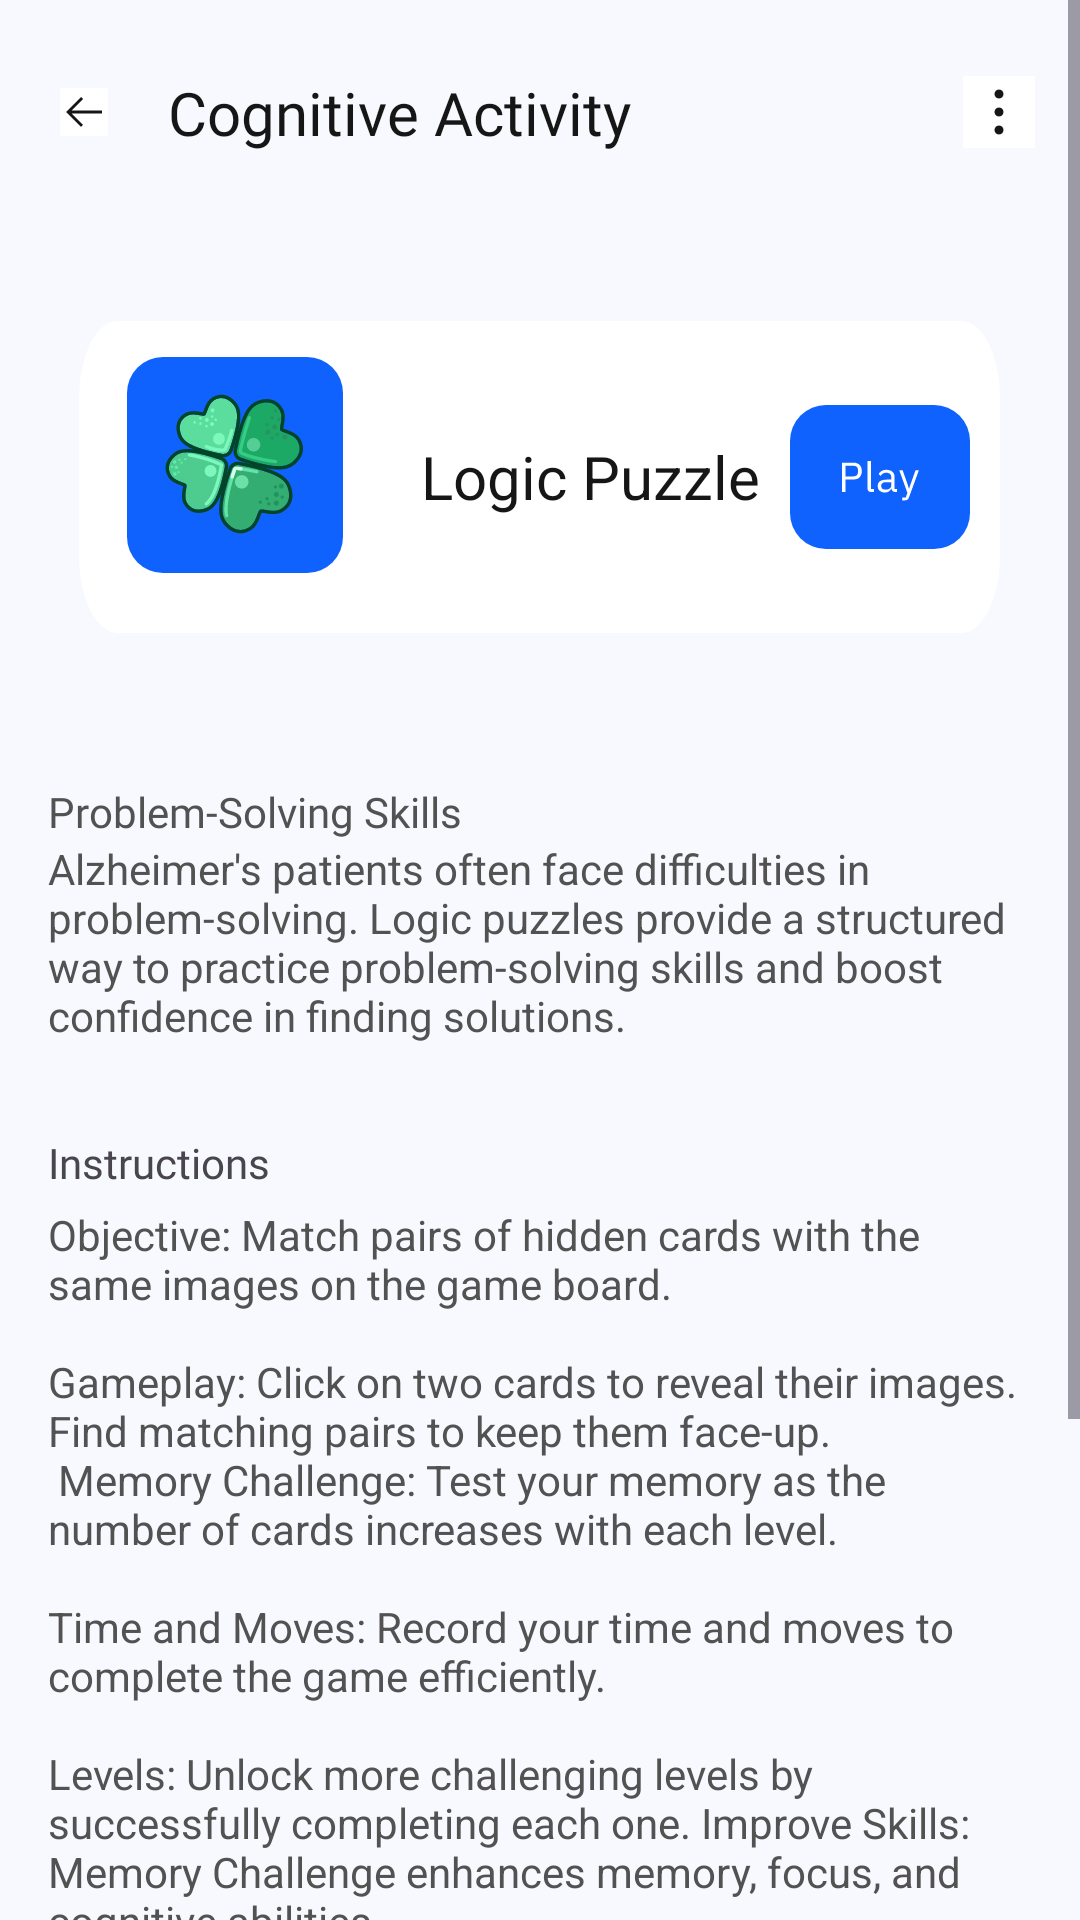

Icon bounding boxes for this 1080*1920 phone screenshot, format BBox(x1, y1, x2, y2):
arrow left: BBox(66, 97, 102, 127)
three points: BBox(994, 89, 1004, 135)
